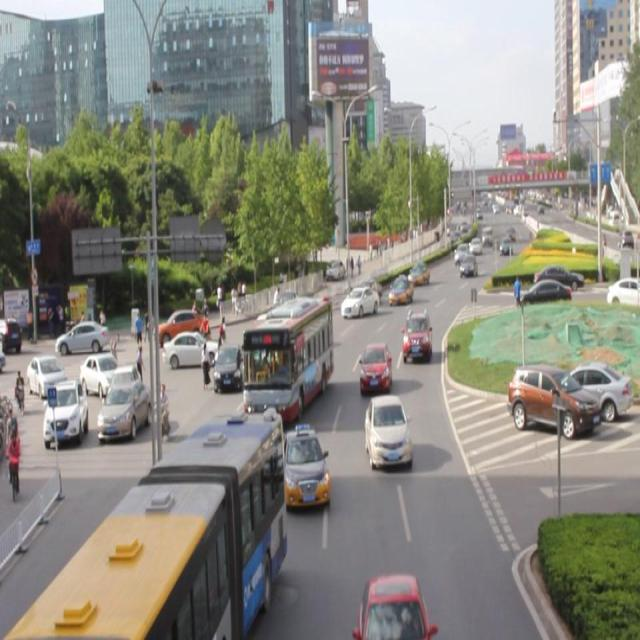car: (358, 572, 427, 640), (282, 421, 329, 503), (364, 393, 411, 466), (162, 327, 222, 368), (280, 310, 314, 360), (211, 345, 245, 395), (400, 310, 431, 362), (255, 335, 294, 376), (358, 342, 391, 390), (340, 284, 378, 316), (248, 316, 277, 356), (387, 274, 413, 304), (351, 277, 383, 301), (407, 260, 430, 286)
van: (1, 411, 281, 640), (243, 297, 333, 416)
